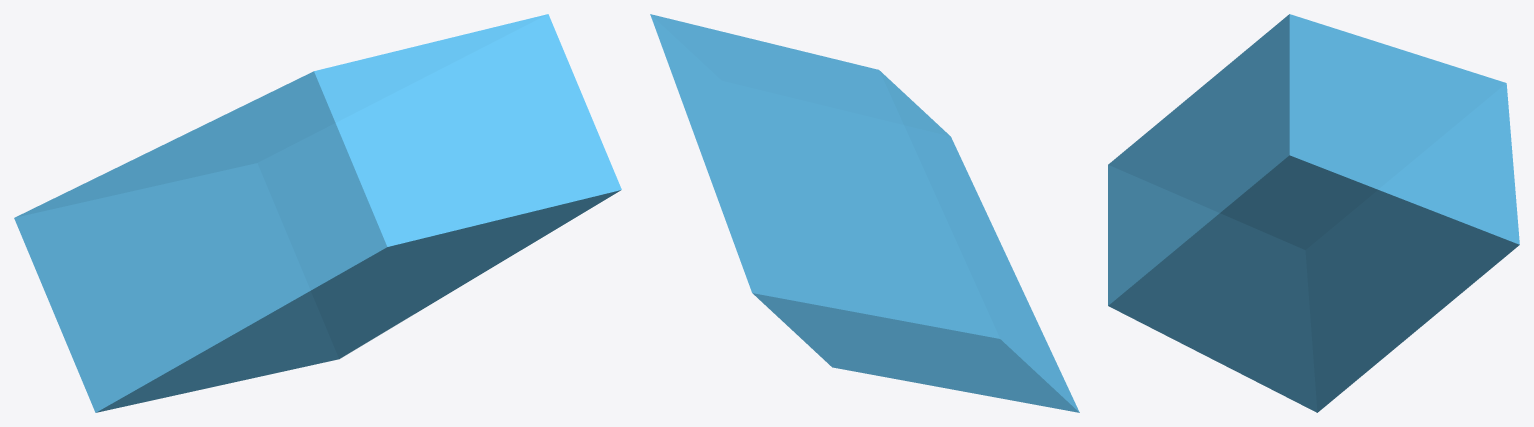
File: Event_420604493_HBrechit_17.fbx
3 renders of one model, left to right at view 1: azimuth 30°, elevation 25°; view 2: azimuth 150°, elevation 25°; view 3: azimuth 270°, elevation 25°, orthographic. The views are drawn at different scales.
Visible parts, largest first — view 1: Model; view 2: Model; view 3: Model.
Boxes of the visible parts, x1,y1,x2,y2 form: Model: (14, 14, 621, 412); Model: (650, 14, 1079, 412); Model: (1108, 14, 1519, 412).
Bounding box in the file's own units: 1.04 × 0.6786 × 0.672.
